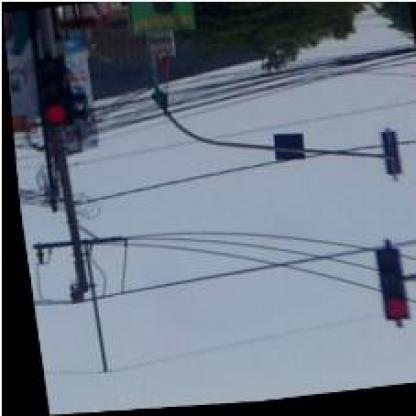red: (32, 55, 67, 128), (370, 249, 403, 326)
